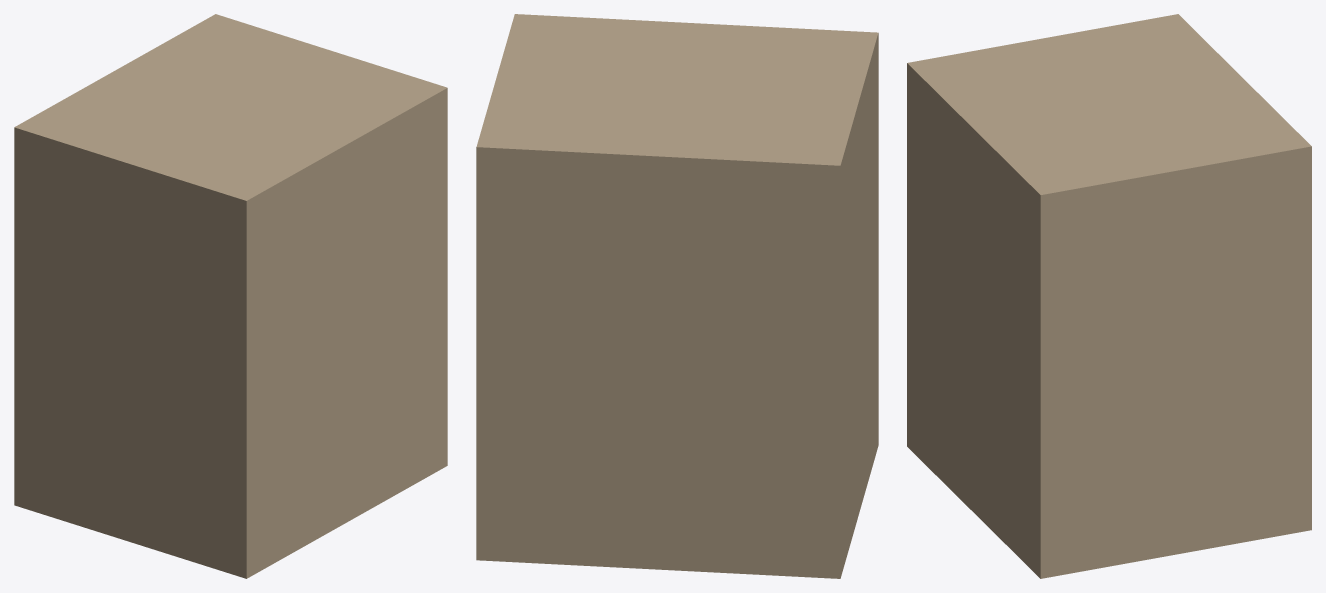
Rendered from bld_99003288.dae.
The picture shows the model from 3 angles, left to right: view 1: azimuth 30°, elevation 25°; view 2: azimuth 150°, elevation 25°; view 3: azimuth 270°, elevation 25°; orthographic projection. The views are drawn at different scales.
Visible parts, largest first — view 1: bld_99003288; view 2: bld_99003288; view 3: bld_99003288.
Boxes of the visible parts, bbox=[...] form: bld_99003288: bbox=[14, 14, 447, 578]; bld_99003288: bbox=[476, 14, 878, 578]; bld_99003288: bbox=[907, 14, 1311, 578].
Bounding box in the file's own units: 8.1 × 7.65 × 8.
